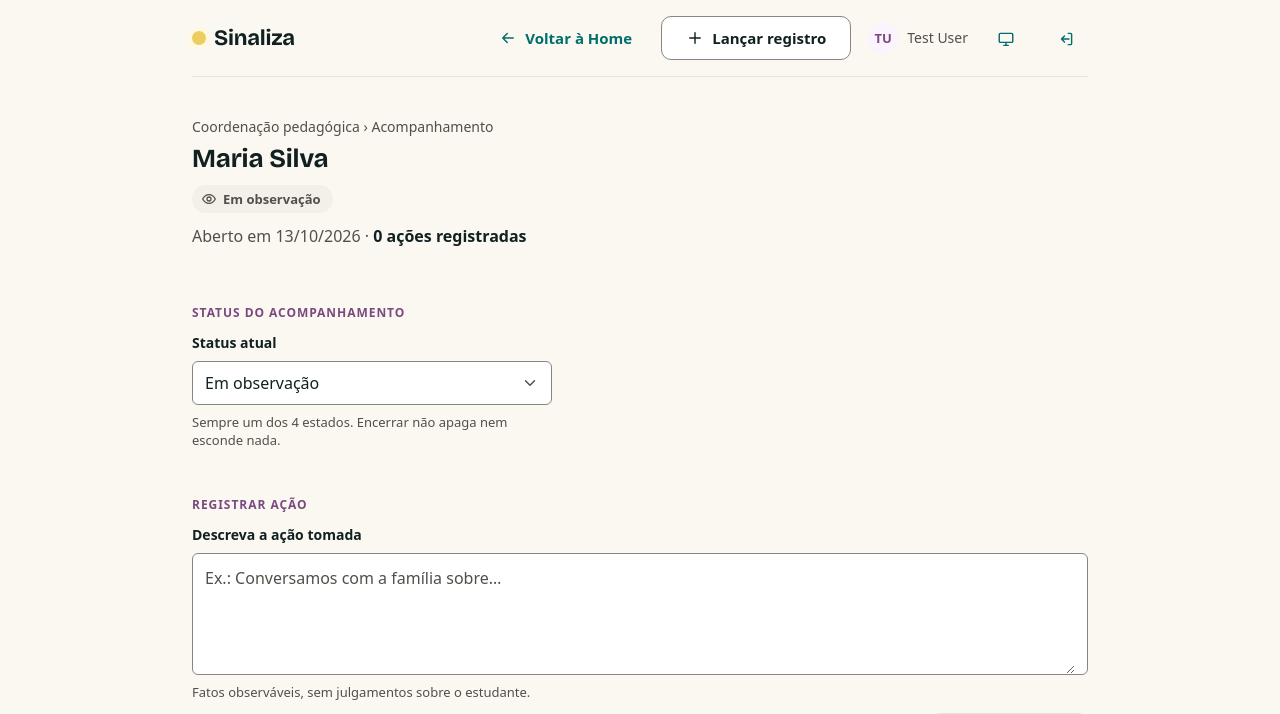
Test case: Acompanhamento — tela de acompanhamento (Story 4.1) › selecting "Encerrado" without confirming makes no request and reverts the select
Expected: the heading "Maria Silva" is shown, [192, 143, 328, 174]
Select "Encerrado" in the dropdown labelled "Status atual" at (372, 383), box [205, 363, 539, 403]
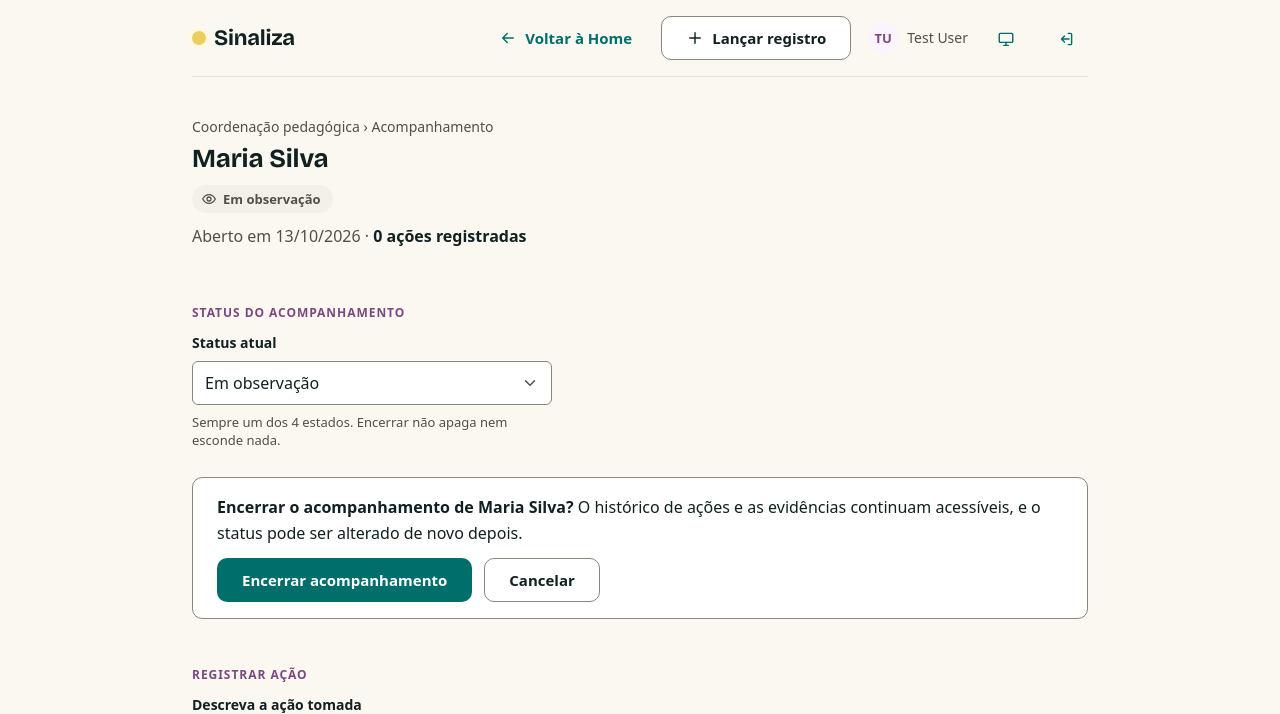
Expected: the text "Encerrar o acompanhamento de Maria Silva?" is shown, [217, 496, 574, 518]
Click the button "Cancelar".
click(542, 580)  # box [484, 558, 600, 602]
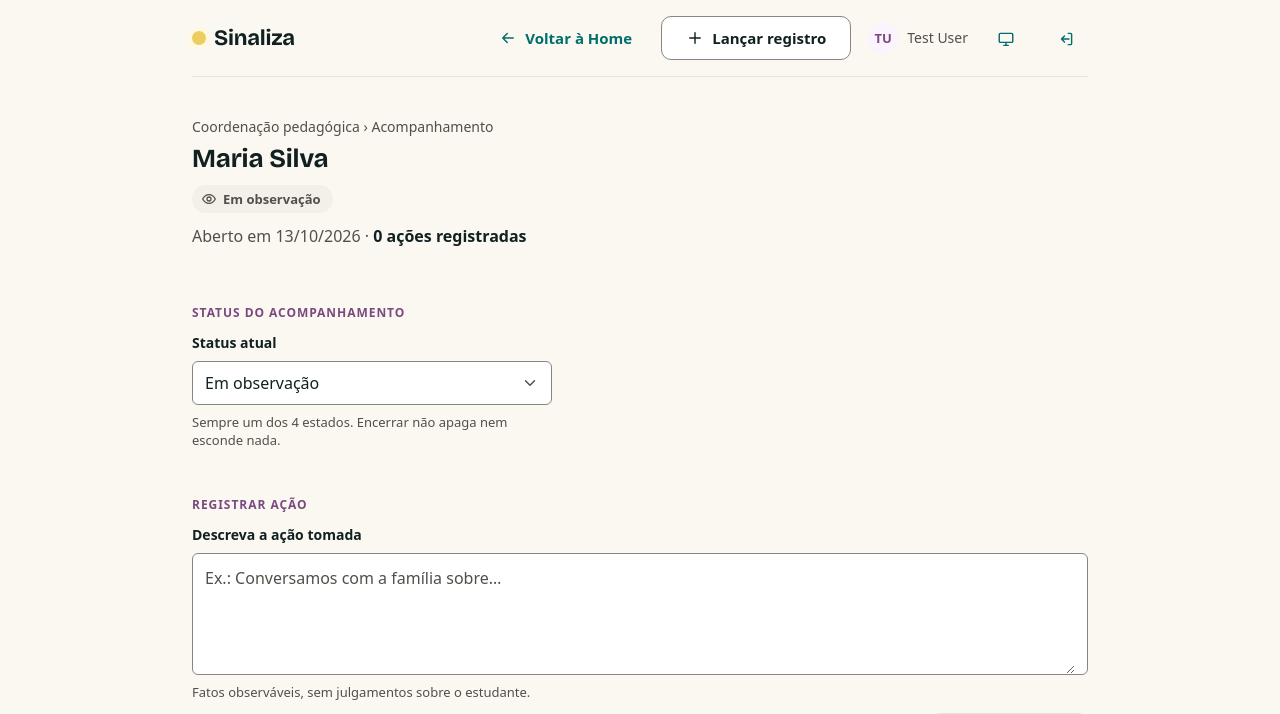
Expected: the text "Encerrar o acompanhamento de Maria Silva?" is gone
